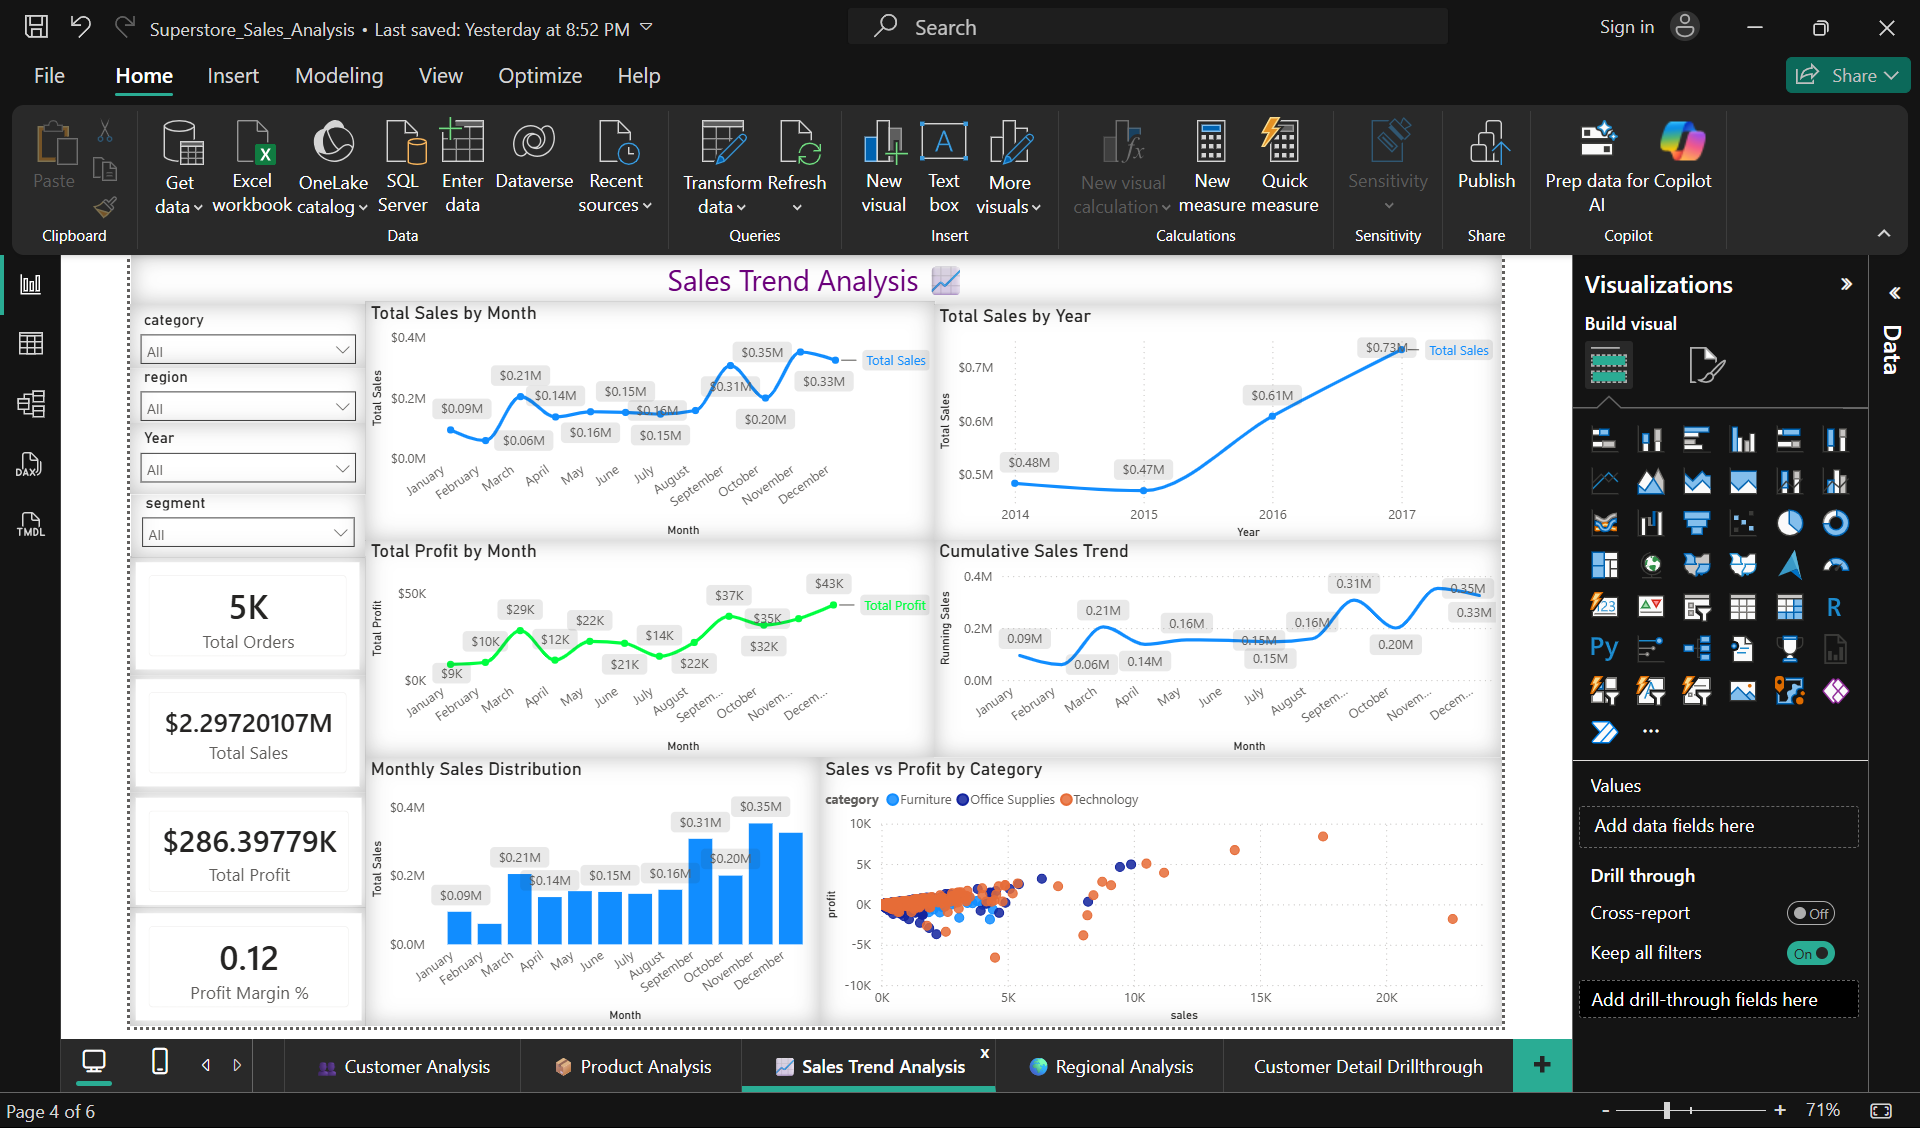

Layout of this report page (visuals, bound fields, positions):
{"tool":"powerbi","page":{"name":"📈 Sales Trend Analysis","canvas":[1280,720],"ordinal":3},"visuals":[{"type":"textbox","box":[1.7,0,1277.8,46.3],"z":0},{"type":"cardVisual","fields":{"Data":["public orders.Total Profit"]},"box":[0,500.5,221.5,110.8],"z":1000},{"type":"cardVisual","fields":{"Data":["public orders.Total Sales"]},"box":[0,390.9,219.9,110.8],"z":2000},{"type":"cardVisual","fields":{"Data":["public orders.Profit Margin %"]},"box":[0,609.2,221.5,110.8],"z":3000},{"type":"cardVisual","fields":{"Data":["public orders.Total Orders"]},"box":[0,281.4,219.9,110.8],"z":4000},{"type":"group","id":"g1","title":"Group 1","box":[0,46.3,221.5,236.4],"z":5000},{"type":"lineChart","fields":{"Category":["public orders.order_date.Variation.Date Hierarchy.Month"],"Y":["public orders.Total Sales"]},"box":[219.8,43.3,531.3,223.2],"z":6000},{"type":"lineChart","fields":{"Category":["public orders.order_date.Variation.Date Hierarchy.Month"],"Y":["public orders.Total Profit"]},"box":[219.8,266.5,531.3,202.5],"z":7000},{"type":"columnChart","title":"Monthly Sales Distribution","fields":{"Category":["public orders.order_date.Variation.Date Hierarchy.Month"],"Y":["public orders.Total Sales"]},"box":[219.8,469,424,250.9],"z":8000},{"type":"scatterChart","title":"Sales vs Profit by Category","fields":{"Y":["public orders.profit"],"X":["public orders.sales"],"Series":["public orders.category"]},"box":[643.8,469,636.8,250.9],"z":9000},{"type":"lineChart","fields":{"Y":["public orders.Total Sales"],"Category":["public orders.order_date.Variation.Date Hierarchy.Year"]},"box":[750.1,46.2,529,222.6],"z":10000},{"type":"lineChart","title":"Cumulative Sales Trend","fields":{"Y":["public orders.Running Sales"],"Category":["public orders.order_date.Variation.Date Hierarchy.Month"]},"box":[750.1,265.9,529,202.3],"z":11000},{"type":"slicer","fields":{"Values":["public orders.segment"]},"box":[1.7,217.4,217.7,65.1],"z":14000,"group":"g1"},{"type":"slicer","fields":{"Values":["public orders.region"]},"box":[0,99.8,220.9,62.1],"z":15000,"group":"g1"},{"type":"slicer","fields":{"Values":["public orders.order_date.Variation.Date Hierarchy.Year"]},"box":[0,156.3,220.9,66.6],"z":16000,"group":"g1"},{"type":"slicer","fields":{"Values":["public orders.category"]},"box":[0,46.3,220.9,59],"z":17000,"group":"g1"}]}

Visuals, with their boxes on the page's 1280x720 design canvas (x1, y1, x2, y2). These are canvas units, not pixel positions in the 1920x1128 screenshot, which may show the page scaled, cropped or inside an application window:
textbox: bbox=[2, 0, 1280, 46]
cardVisual - public orders.Total Profit: bbox=[0, 500, 222, 611]
cardVisual - public orders.Total Sales: bbox=[0, 391, 220, 502]
cardVisual - public orders.Profit Margin %: bbox=[0, 609, 222, 720]
cardVisual - public orders.Total Orders: bbox=[0, 281, 220, 392]
"Group 1" group: bbox=[0, 46, 222, 283]
lineChart - public orders.order_date.Variation.Date Hierarchy.Month x public orders.Total Sales: bbox=[220, 43, 751, 266]
lineChart - public orders.order_date.Variation.Date Hierarchy.Month x public orders.Total Profit: bbox=[220, 266, 751, 469]
"Monthly Sales Distribution" columnChart: bbox=[220, 469, 644, 720]
"Sales vs Profit by Category" scatterChart: bbox=[644, 469, 1281, 720]
lineChart - public orders.Total Sales x public orders.order_date.Variation.Date Hierarchy.Year: bbox=[750, 46, 1279, 269]
"Cumulative Sales Trend" lineChart: bbox=[750, 266, 1279, 468]
slicer - public orders.segment: bbox=[2, 217, 219, 282]
slicer - public orders.region: bbox=[0, 100, 221, 162]
slicer - public orders.order_date.Variation.Date Hierarchy.Year: bbox=[0, 156, 221, 223]
slicer - public orders.category: bbox=[0, 46, 221, 105]
